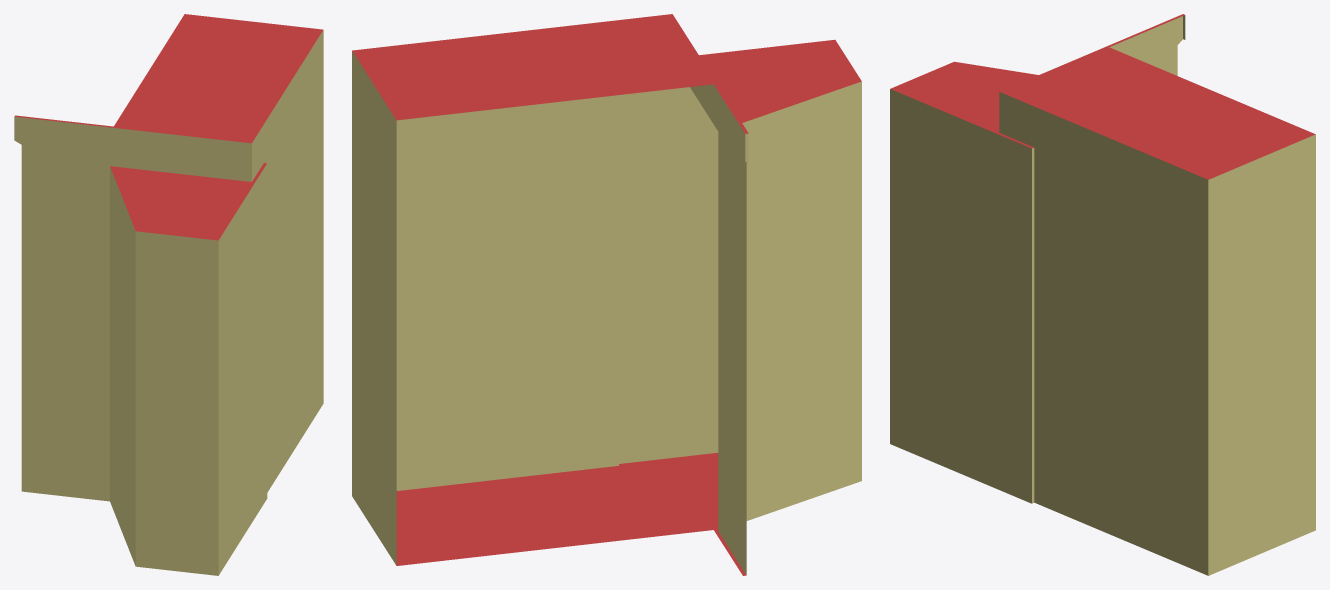
The picture shows the model from 3 angles, left to right: view 1: azimuth 30°, elevation 25°; view 2: azimuth 150°, elevation 25°; view 3: azimuth 270°, elevation 25°; orthographic projection. The views are drawn at different scales.
Bounding box in the file's own units: 12.74 × 13.82 × 14.19.
